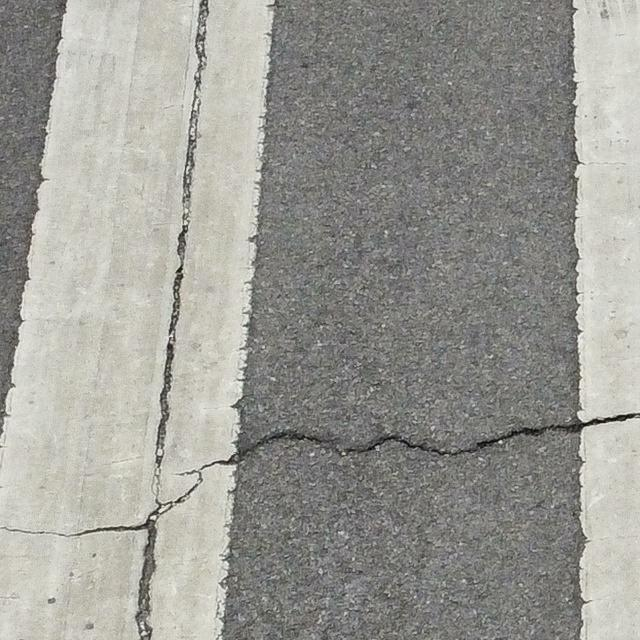LongitudinalCrack: (132, 1, 210, 639)
TransverseCrack: (1, 410, 640, 535)
